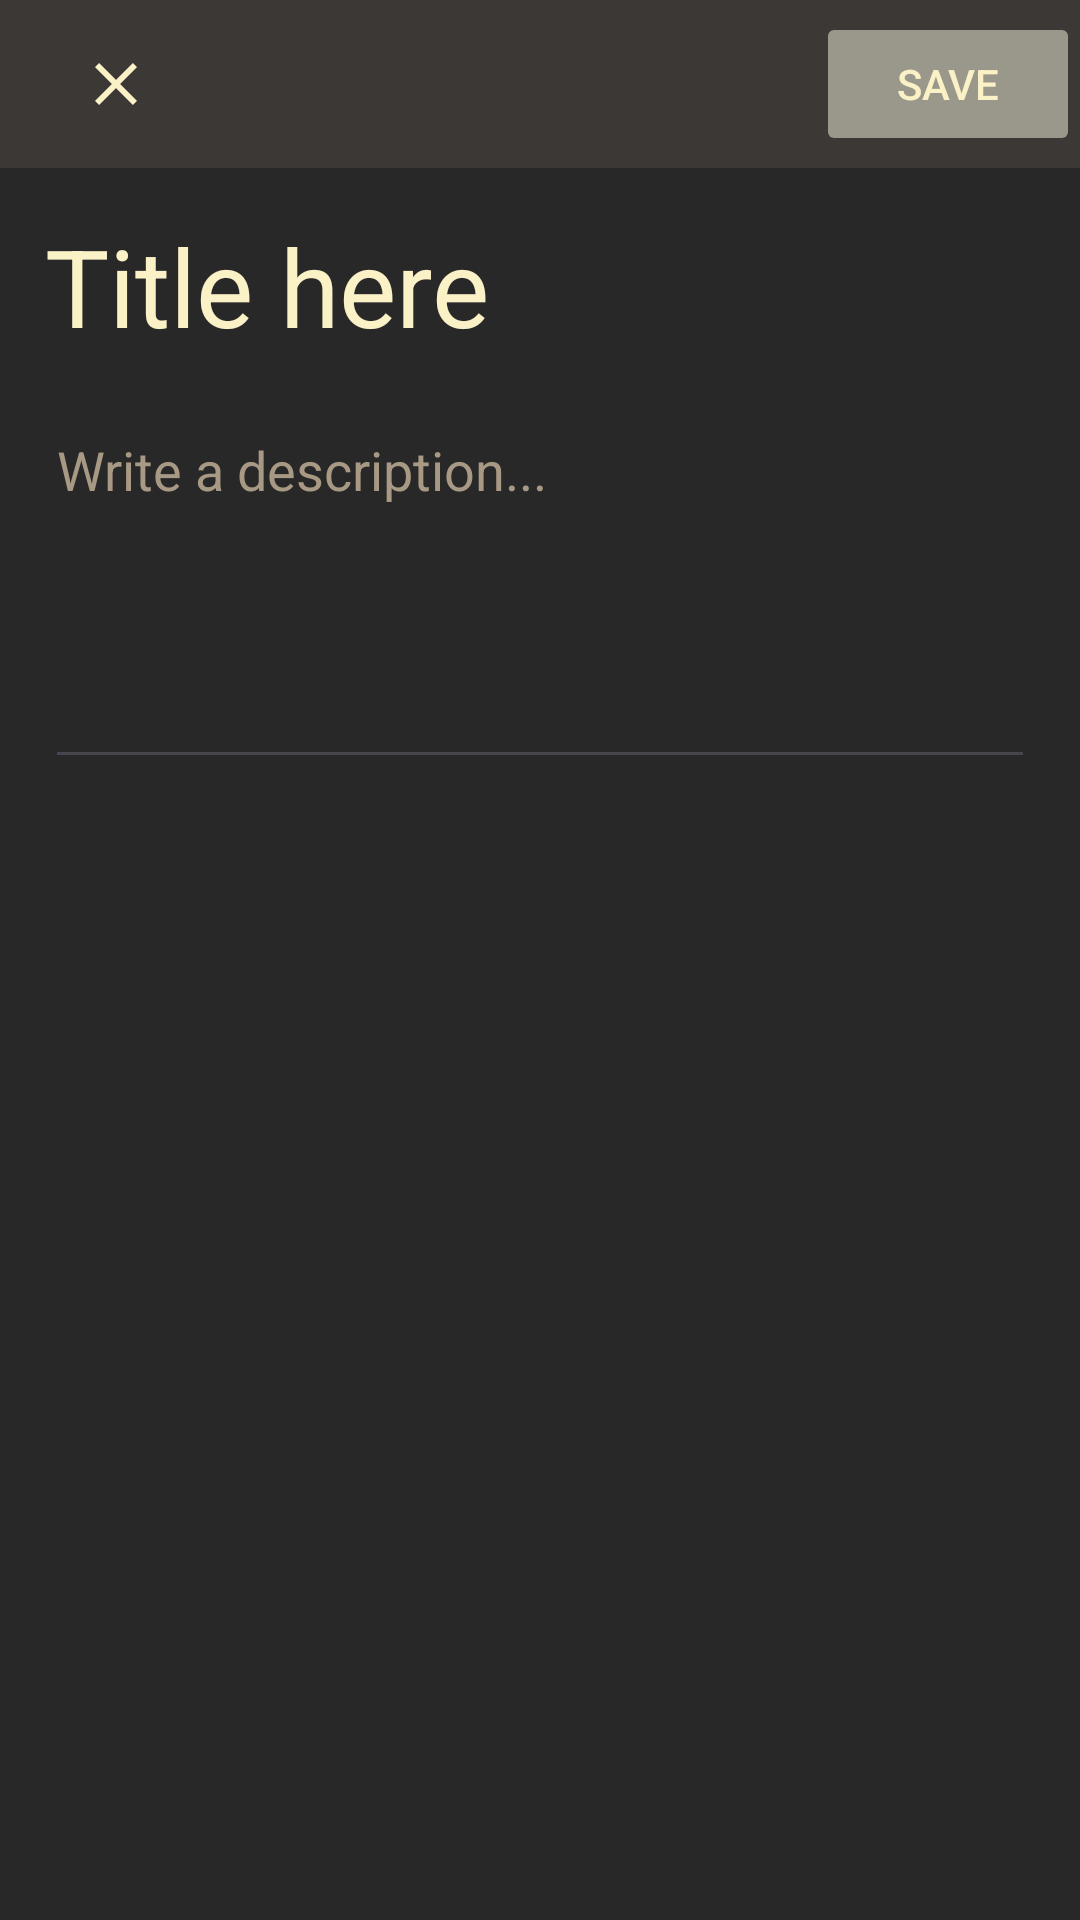

Where icons sit on this 1080w x 1920h app screen, as Rect(x1, y1, x2, y2):
close: Rect(95, 63, 137, 105)
